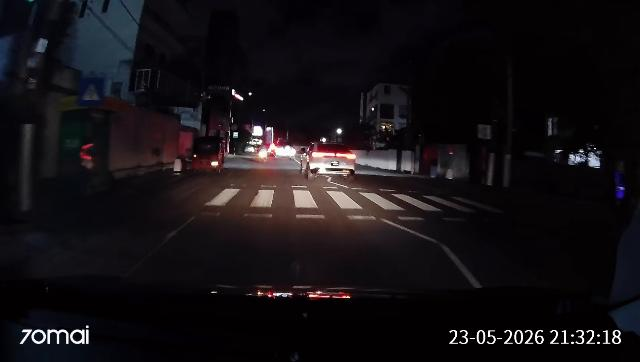illegal overtaking: (298, 138, 360, 183)
